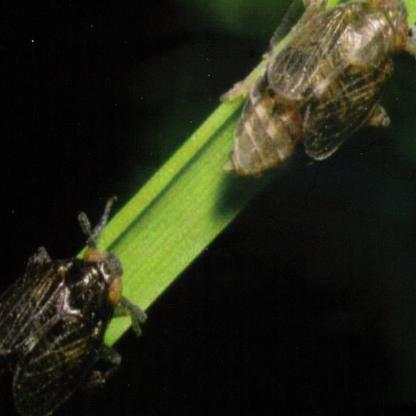brown-planthopper: (228, 0, 416, 178)
